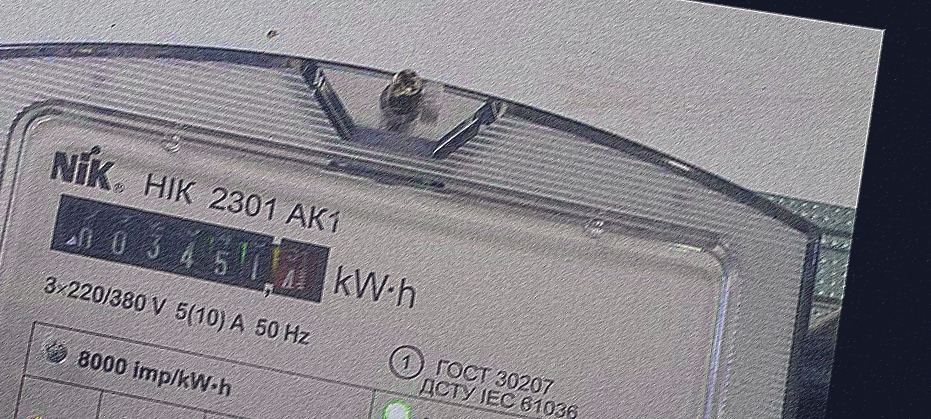0: (74, 221, 98, 251), (109, 227, 132, 257)
1: (246, 250, 267, 283)
3: (143, 229, 167, 263)
4: (176, 238, 201, 273), (277, 264, 301, 294)
5: (212, 246, 233, 279)
screen: (42, 187, 340, 312)
